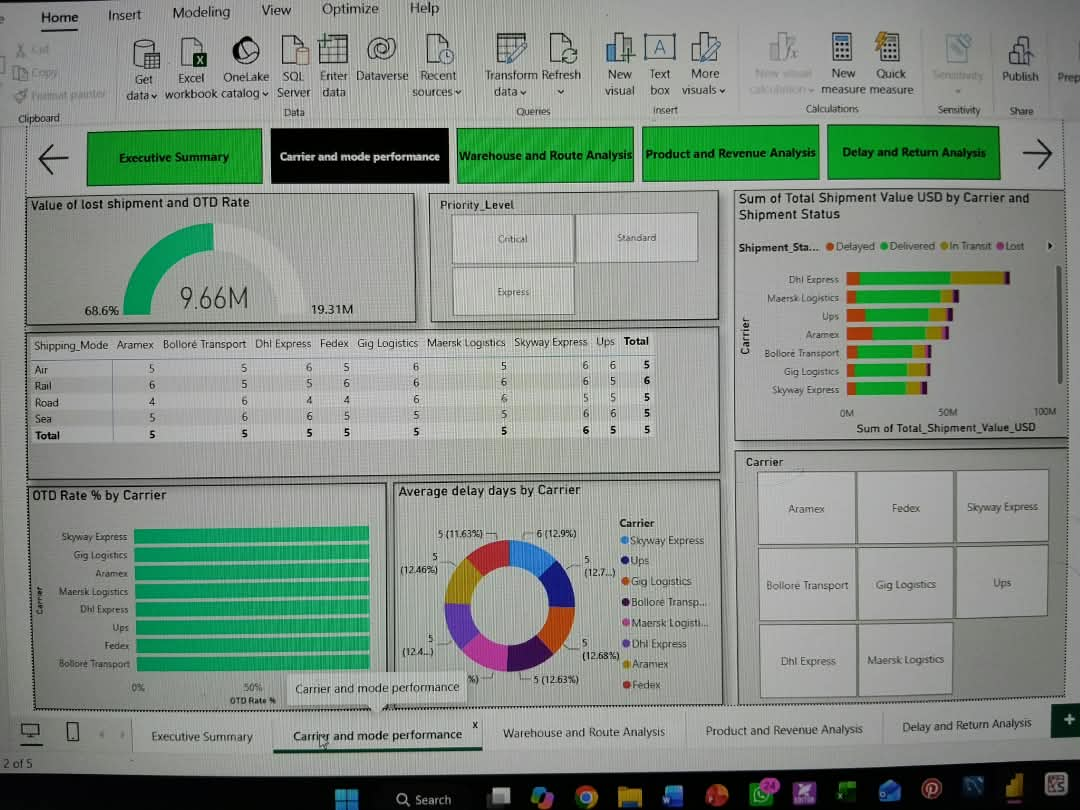

Layout of this report page (visuals, bound fields, positions):
{"tool":"powerbi","page":{"name":"Carrier and mode performance","canvas":[1280,720],"ordinal":1},"visuals":[{"type":"hundredPercentStackedBarChart","fields":{"Y":["Raw_Data.OTD Rate %"],"Category":["Raw_Data.Carrier"]},"box":[0,443.9,437.8,276.4],"z":0},{"type":"donutChart","fields":{"Category":["Raw_Data.Carrier"],"Y":["Raw_Data.Average delay days"]},"box":[446.3,443.9,402.3,276.4],"z":1000},{"type":"pivotTable","fields":{"Rows":["Raw_Data.Shipping_Mode"],"Columns":["Raw_Data.Carrier"],"Values":["Raw_Data.Average delay days"]},"box":[0,255.6,848.6,179.8],"z":2000},{"type":"gauge","title":"Value of lost shipment  and OTD Rate","fields":{"Y":["Raw_Data.Lost shipment value"],"MinValue":["Raw_Data.OTD Rate %"]},"box":[0,89.3,475.7,157.7],"z":3000},{"type":"slicer","fields":{"Values":["Raw_Data.Carrier"]},"box":[867,408.4,413.3,311.8],"z":4000},{"type":"slicer","fields":{"Values":["Raw_Data.Priority_Level"]},"box":[494,89.3,354.6,157.7],"z":5000},{"type":"barChart","title":"Sum of Total Shipment Value USD by Carrier and Shipment Status","fields":{"Category":["Raw_Data.Carrier"],"Series":["Raw_Data.Shipment_Status"],"Y":["Sum(Raw_Data.Total_Shipment_Value_USD)"]},"box":[867,89.3,413.3,306.9],"z":6000},{"type":"pageNavigator","box":[77,11,1123.8,67.3],"z":7000},{"type":"actionButton","box":[9.8,18.3,55,50.1],"z":8000},{"type":"actionButton","box":[1220.4,18.3,50.1,53.8],"z":9000}]}

Visuals, with their boxes in screenshot pixels (x1, y1, x2, y2):
hundredPercentStackedBarChart - Raw_Data.OTD Rate % x Raw_Data.Carrier: 37:477:388:699
donutChart - Raw_Data.Carrier x Raw_Data.Average delay days: 395:477:718:699
pivotTable - Raw_Data.Shipping_Mode x Raw_Data.Carrier: 37:326:718:470
"Value of lost shipment  and OTD Rate" gauge: 37:193:418:319
slicer - Raw_Data.Carrier: 732:449:1064:699
slicer - Raw_Data.Priority_Level: 433:193:718:319
"Sum of Total Shipment Value USD by Carrier and Shipment Status" barChart: 732:193:1064:439
pageNavigator: 98:130:1000:184
actionButton: 44:136:89:176
actionButton: 1016:136:1056:179
